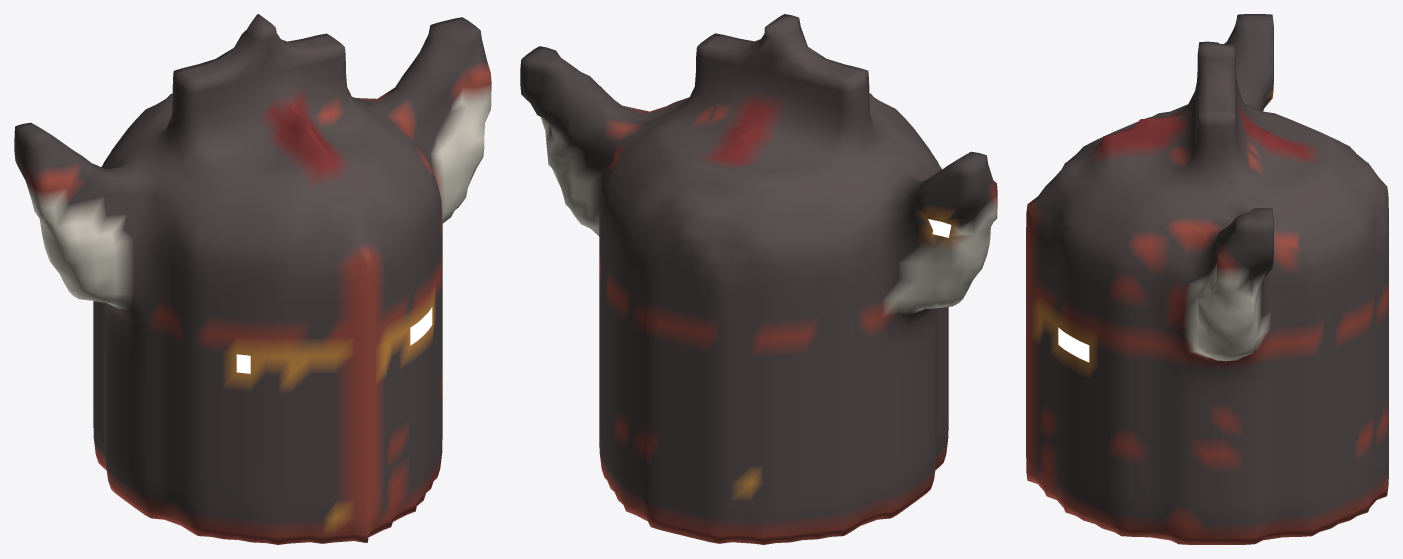
The model's file is plate_masterwork_helmet_lod1.glb.
3 views of the same model, side by side, from view 1: azimuth 30°, elevation 25°; view 2: azimuth 150°, elevation 25°; view 3: azimuth 270°, elevation 25° (orthographic). The views are drawn at different scales.
Parts seen in each view (by area): view 1: plate_masterwork_helmet_lod1; view 2: plate_masterwork_helmet_lod1; view 3: plate_masterwork_helmet_lod1.
Part boxes in pixels (x1,y1,x2,y2): plate_masterwork_helmet_lod1: (14,14,491,544); plate_masterwork_helmet_lod1: (520,14,997,544); plate_masterwork_helmet_lod1: (1026,14,1388,544).
Size of the model in its own units: 0.6354 by 0.5998 by 0.4552.
